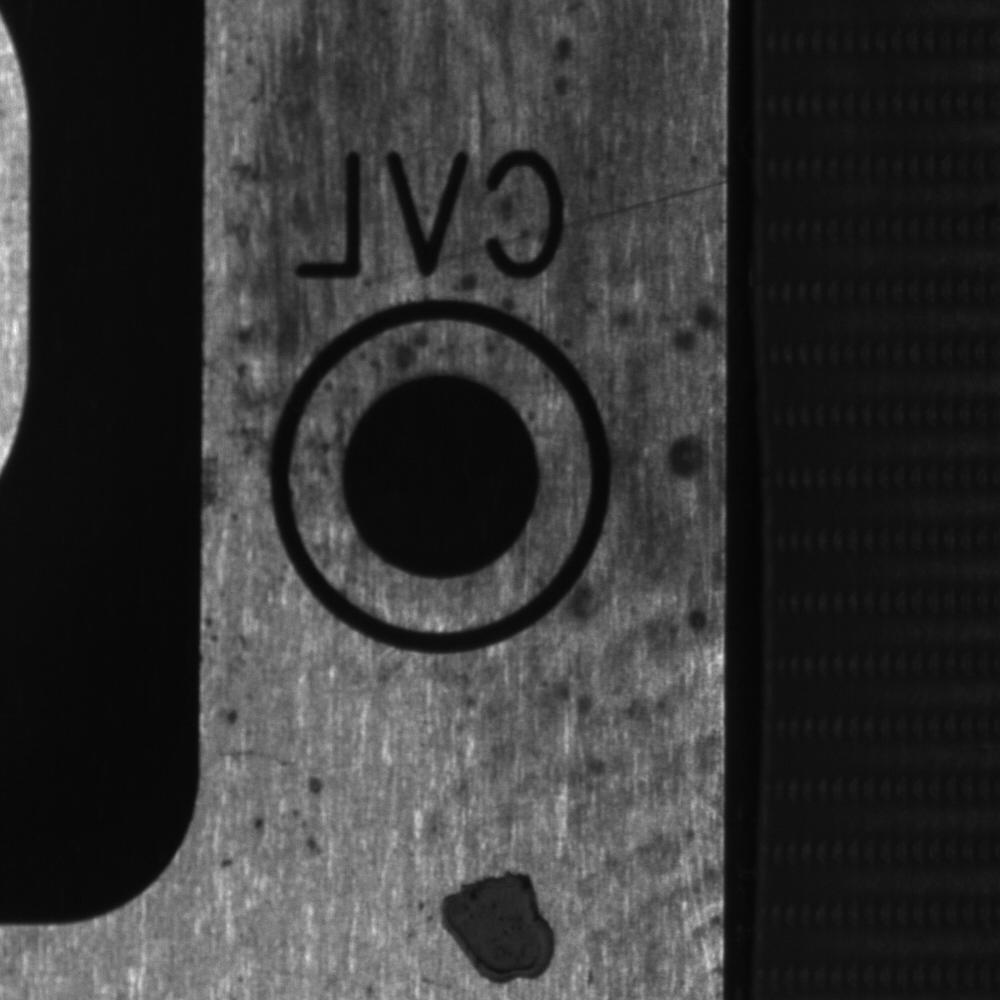Discolor: (220, 1, 723, 148), (419, 677, 721, 821), (574, 156, 724, 399), (388, 841, 616, 992), (606, 404, 715, 671), (214, 161, 294, 384), (200, 404, 274, 524)
Etching: (212, 678, 349, 880)
